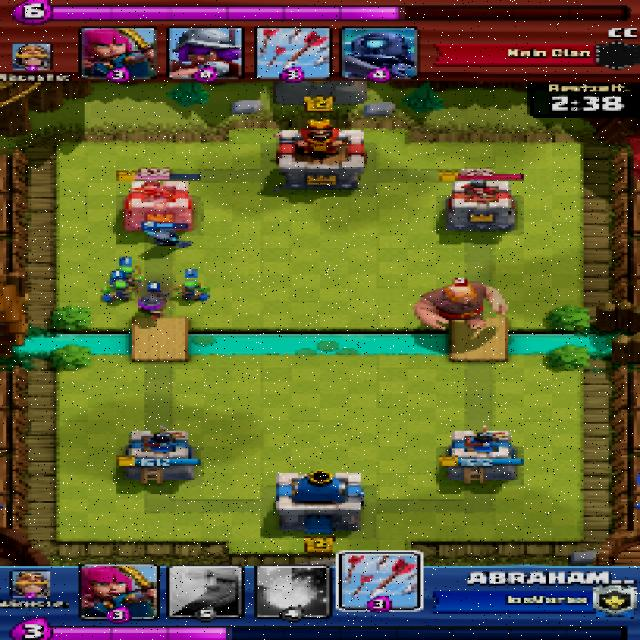Enemy-Giant: (416, 282, 509, 332)
Player-Musketeer: (142, 292, 168, 314)
Player-SpearGoblin: (176, 279, 209, 304), (109, 266, 145, 285), (101, 281, 129, 304)
